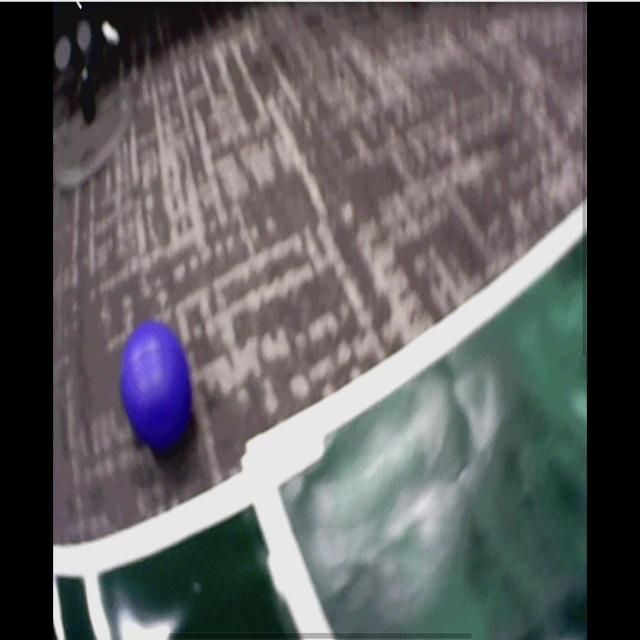ball: (119, 323, 192, 446)
